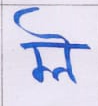o_matra: (61, 31, 76, 85)
